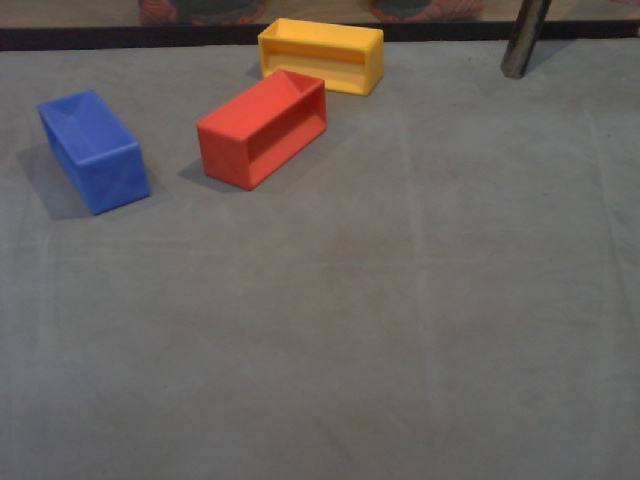BlueSample: (35, 87, 154, 219)
RedSample: (190, 64, 330, 193)
YellowSample: (255, 14, 390, 101)
